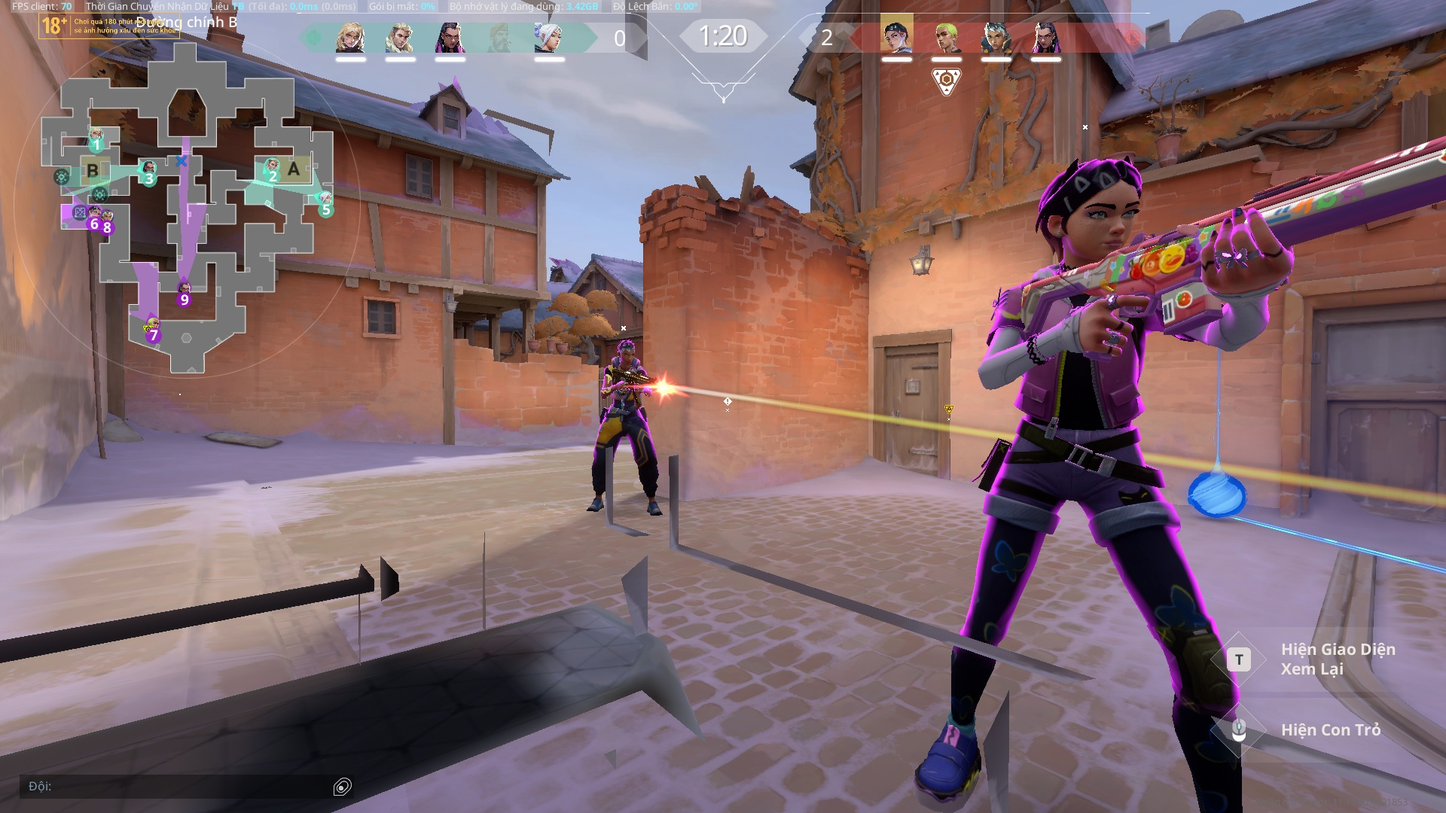body: (984, 257, 1166, 416), (1044, 152, 1166, 270), (602, 354, 651, 404)
head: (619, 340, 637, 361)
